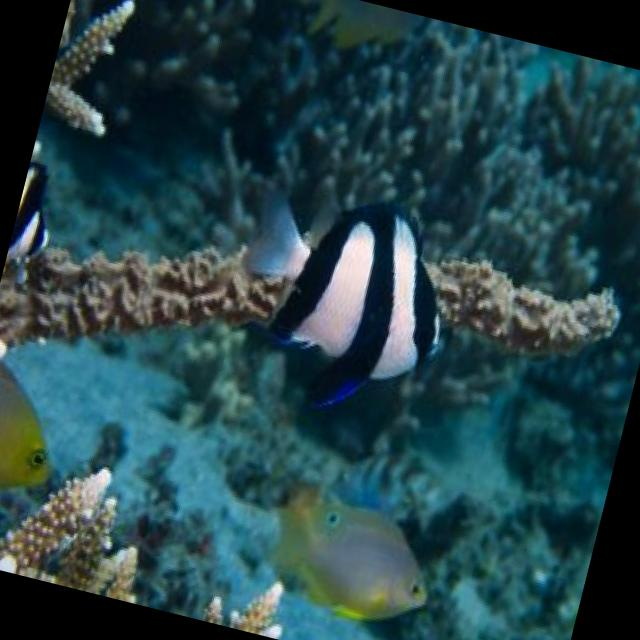Three_striped DasmselFish: (218, 172, 471, 433)
